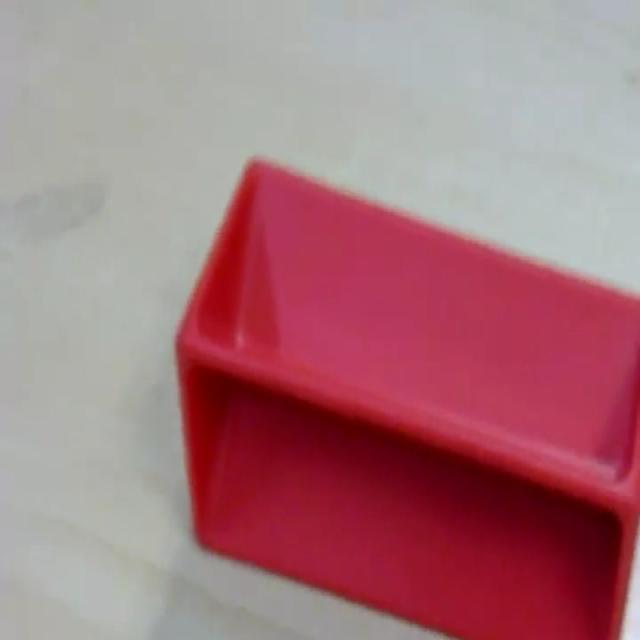red_block: (174, 153, 638, 636)
